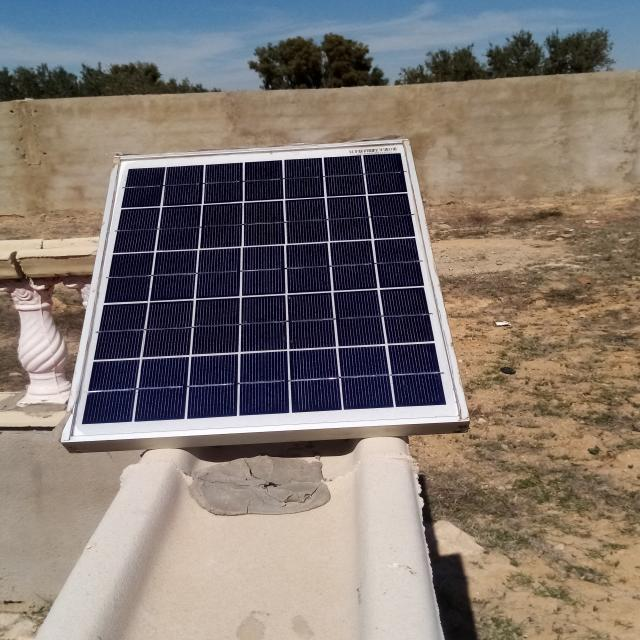no faulty: (62, 138, 462, 442)
